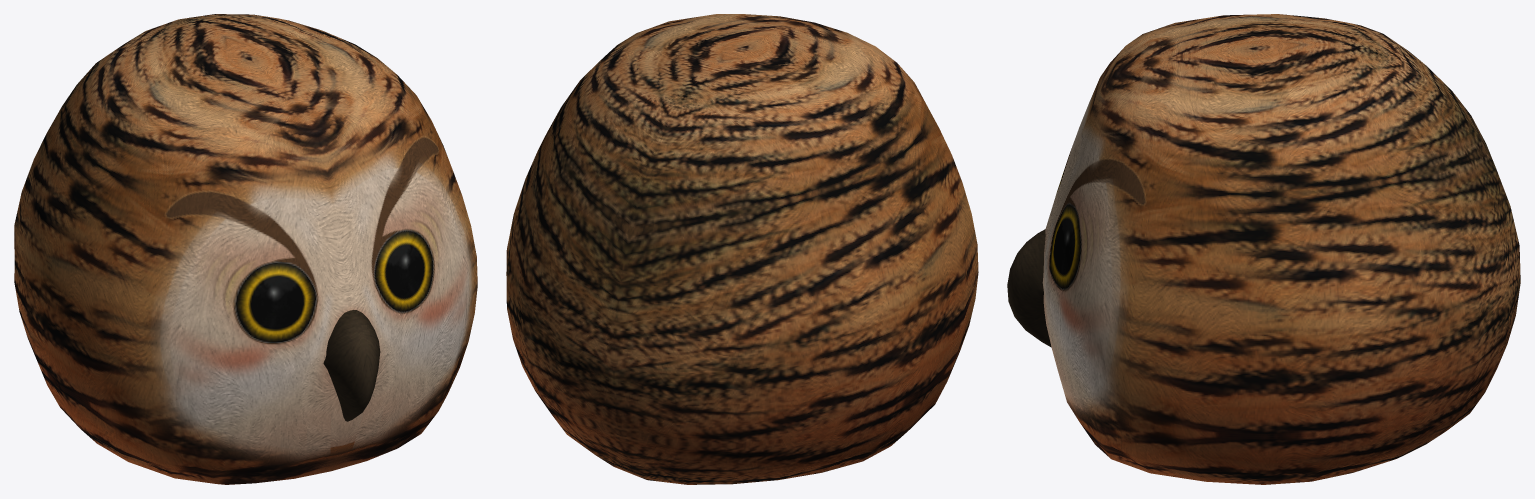
File: CRT0110021.FBX
3 renders of one model, left to right at view 1: azimuth 30°, elevation 25°; view 2: azimuth 150°, elevation 25°; view 3: azimuth 270°, elevation 25°, orthographic. The views are drawn at different scales.
Parts seen in each view (by area): view 1: smCRT0110021; view 2: smCRT0110021; view 3: smCRT0110021.
Part boxes in pixels (x1,y1,x2,y2): smCRT0110021: [14, 14, 477, 484]; smCRT0110021: [506, 14, 978, 484]; smCRT0110021: [1007, 14, 1520, 484].
Bounding box in the file's own units: 0.1395 × 0.1332 × 0.1575.
Materials: 1 (1 with a texture image).
